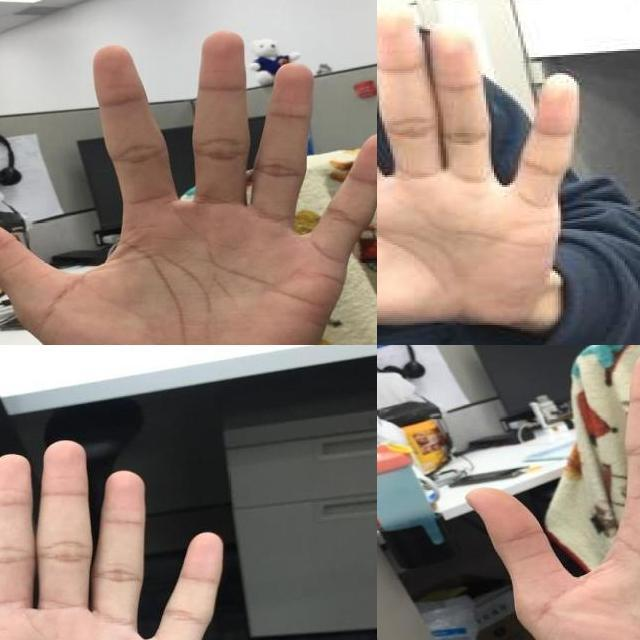no-gloves: (0, 28, 377, 345), (377, 1, 585, 335), (466, 345, 640, 640), (0, 438, 224, 640)
